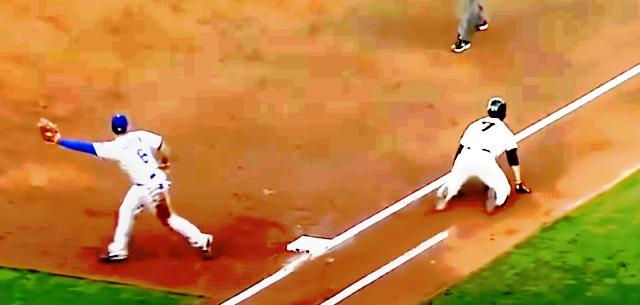jatuh: (433, 92, 535, 219)
